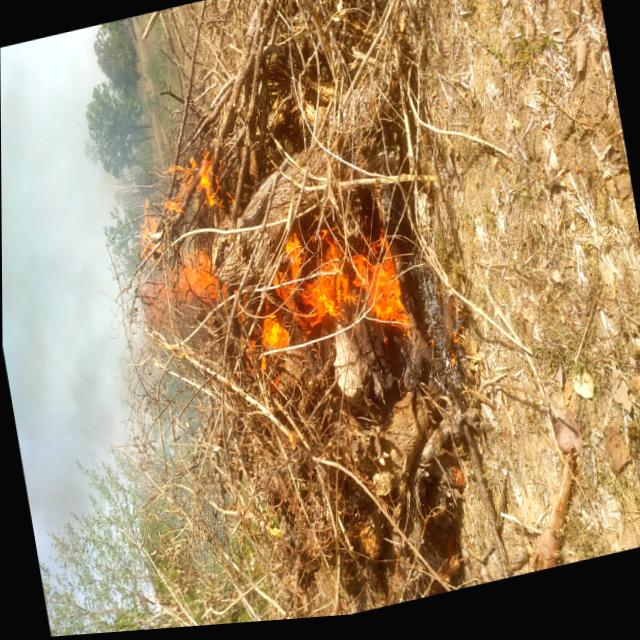Fire: (242, 214, 416, 378)
